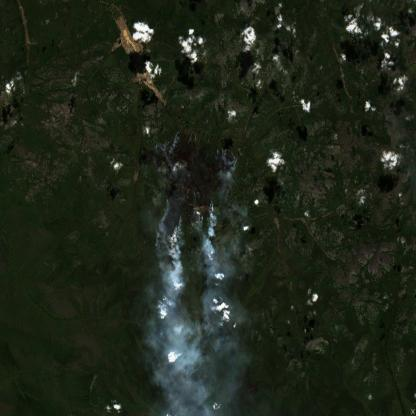fire: (150, 139, 239, 242)
